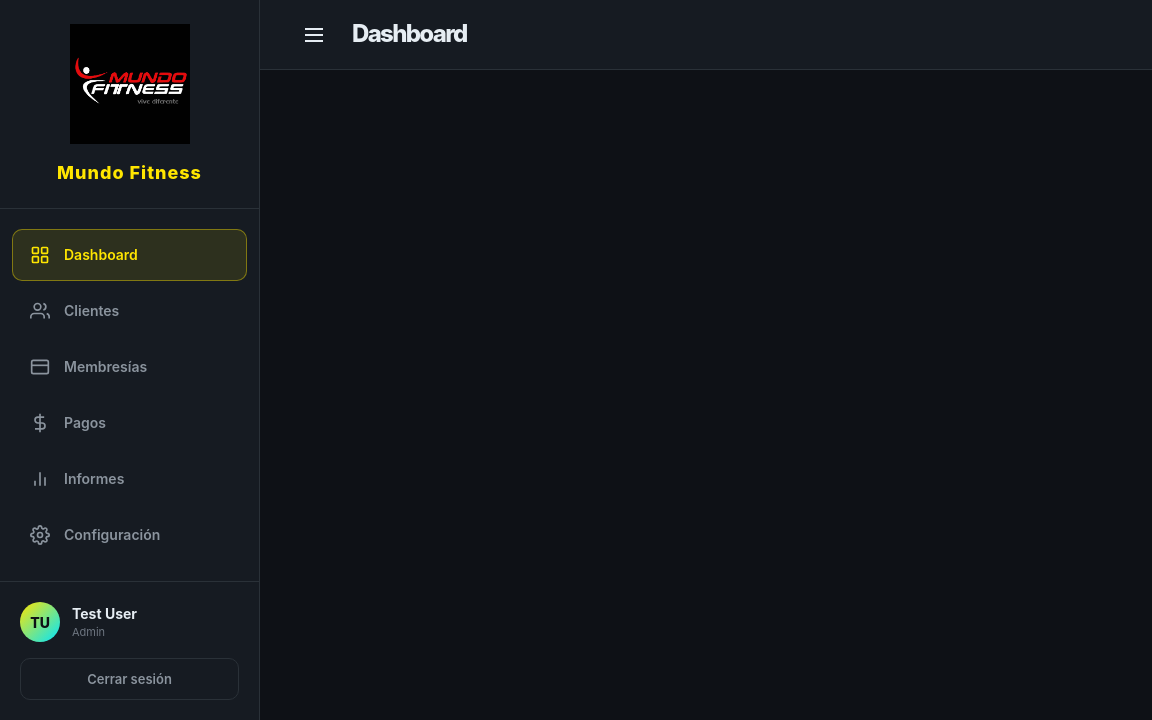
Test: DashboardLayout - Integration Tests › Mobile Sidebar › shows overlay when sidebar open
Click the button named "Abrir menú": click(314, 34) [292,12,336,56]
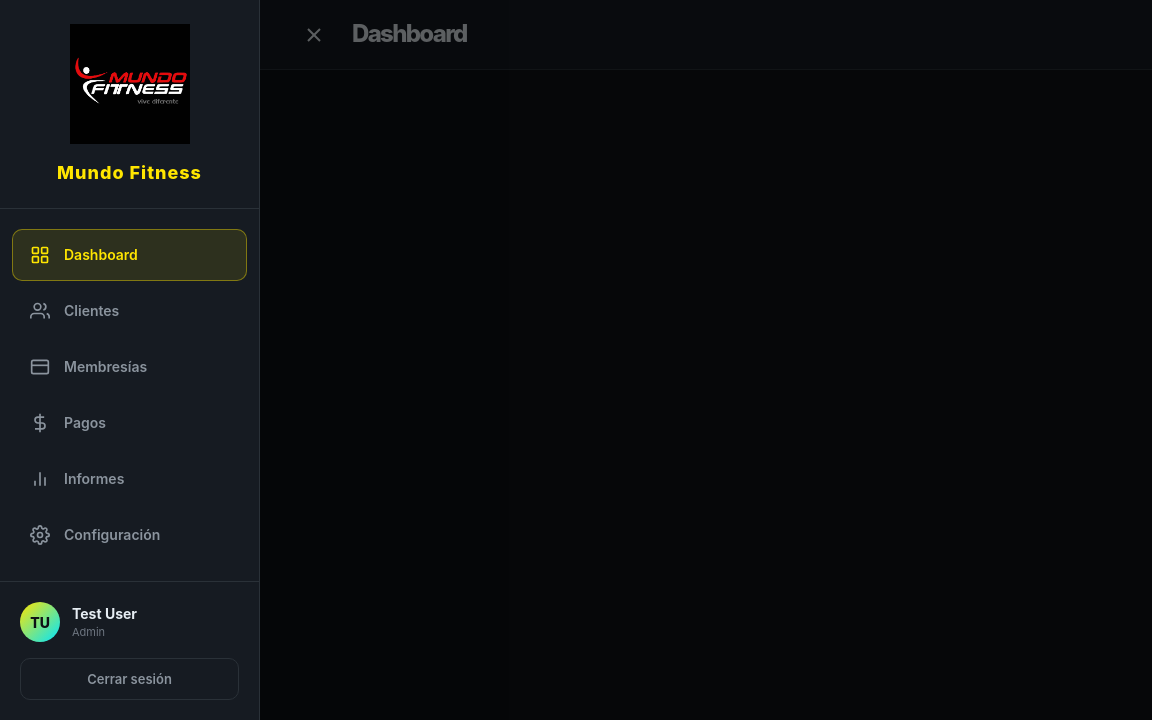
Check: the element with class "sidebar-overlay" is shown
